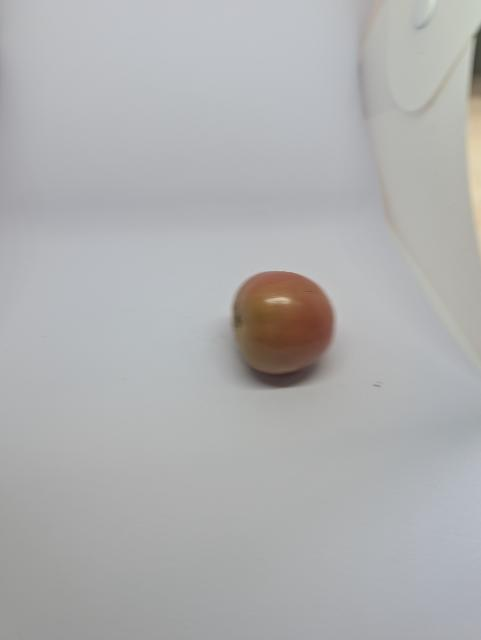turning: (224, 264, 348, 384)
